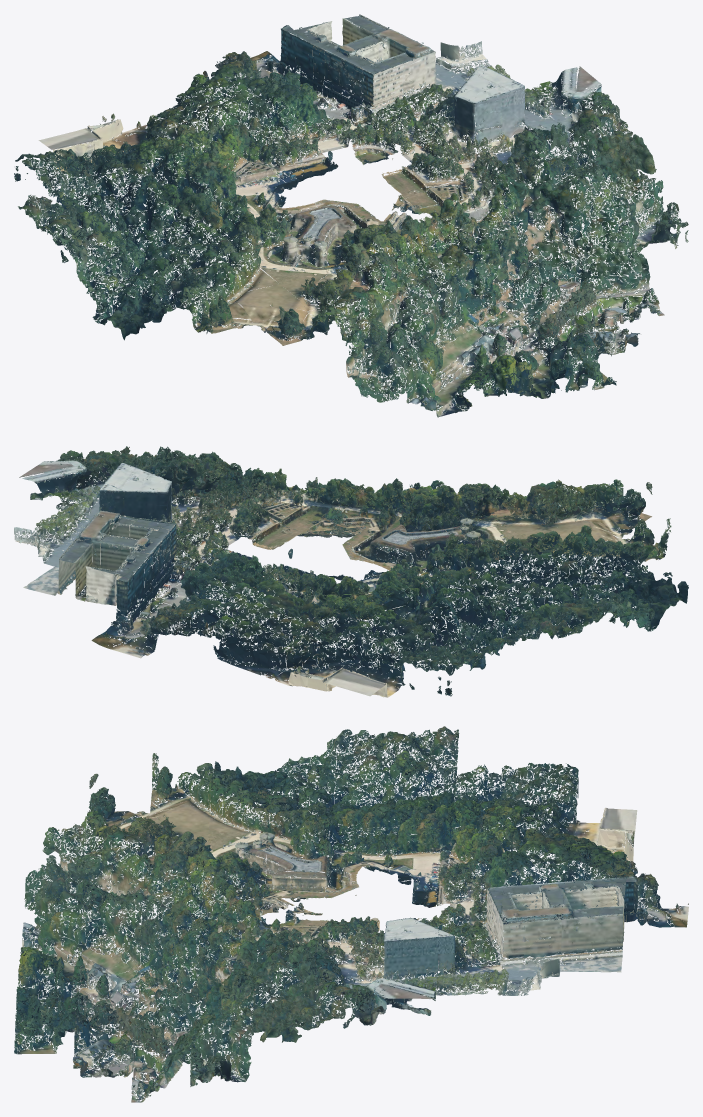
The model's file is near.glb.
3 views of the same model, one above another, from view 1: azimuth 30°, elevation 25°; view 2: azimuth 150°, elevation 25°; view 3: azimuth 270°, elevation 25° (orthographic). The views are drawn at different scales.
Visible parts, largest first — view 1: near_context; view 2: near_context; view 3: near_context.
Boxes of the visible parts, bbox=[...] form: near_context: bbox=[14, 14, 688, 417]; near_context: bbox=[14, 446, 688, 697]; near_context: bbox=[14, 726, 688, 1102].
Bounding box in the file's own units: 423 × 113 × 423.
1 material, 1 textured.
